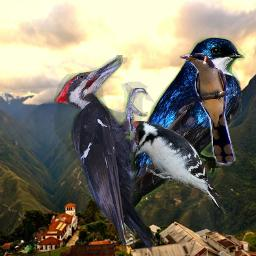Cuckoo: (180, 53, 236, 166)
Swallow: (102, 37, 245, 220)
Woodpecker: (54, 55, 158, 253), (124, 119, 228, 217)
